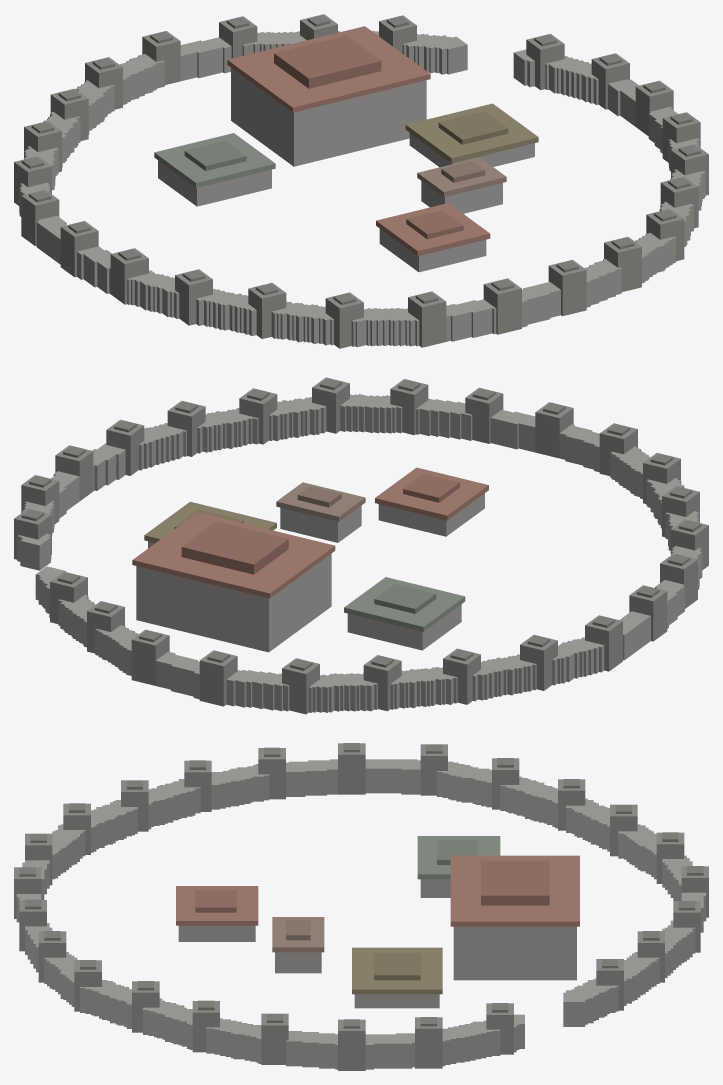
File: ciudad_castillo_real_1183_2684_01.glb
The picture shows the model from 3 angles, top to bottom: view 1: azimuth 30°, elevation 25°; view 2: azimuth 150°, elevation 25°; view 3: azimuth 270°, elevation 25°; orthographic projection.
Visible parts, largest first — view 1: ciudad_castillo_real_1183_2684; view 2: ciudad_castillo_real_1183_2684; view 3: ciudad_castillo_real_1183_2684.
Part boxes in pixels (left/top/right/bottom): ciudad_castillo_real_1183_2684: left=14, top=14, right=708, bottom=348; ciudad_castillo_real_1183_2684: left=14, top=377, right=708, bottom=714; ciudad_castillo_real_1183_2684: left=14, top=743, right=708, bottom=1070.
Size of the model in its own units: 62 by 7 by 63.25.
